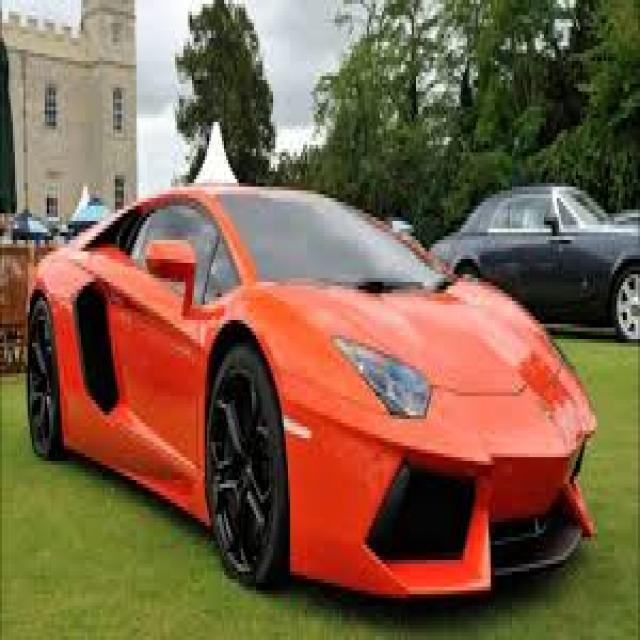Car: (19, 185, 598, 599), (418, 175, 640, 338)
